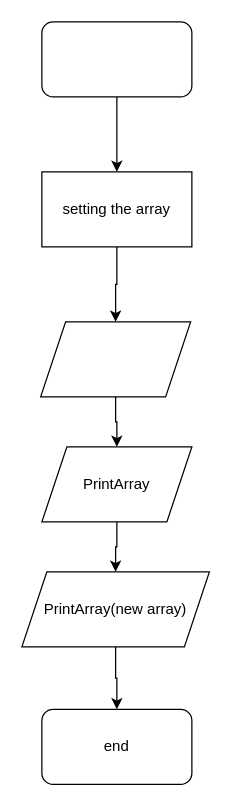
Image size: 231x806. Some labels were removed from this diagram. The box of each missing label's shape, as (x1, y1, x2, y2) in pixels:
ParsntArray: (39, 321, 191, 397)
start: (41, 21, 192, 97)
